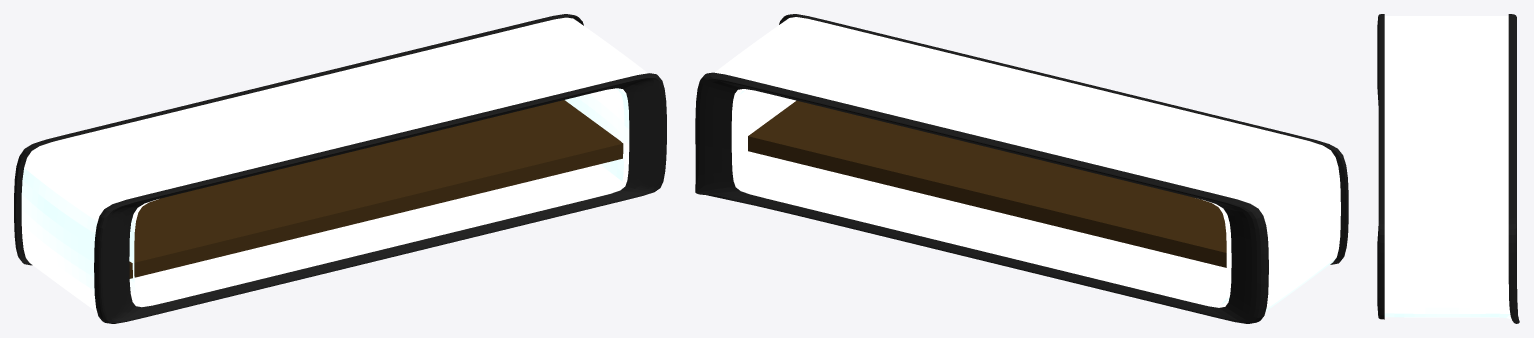
File: tvstand.fbx
3 views of the same model, side by side, from view 1: azimuth 30°, elevation 25°; view 2: azimuth 150°, elevation 25°; view 3: azimuth 270°, elevation 25° (orthographic). The views are drawn at different scales.
Parts seen in each view (by area): view 1: glass, Cube.001, edge; view 2: glass, Cube.001, edge; view 3: glass, edge.
Part boxes in pixels (box(x1,y1,x2,y2)): glass: box(21, 17, 647, 311); Cube.001: box(129, 100, 623, 278); edge: box(14, 14, 666, 323); glass: box(702, 17, 1340, 311); Cube.001: box(748, 100, 1226, 267); edge: box(695, 14, 1348, 323); glass: box(1384, 16, 1519, 320); edge: box(1377, 14, 1519, 323).
Size of the model in its own units: 201 by 40 by 54.02.
